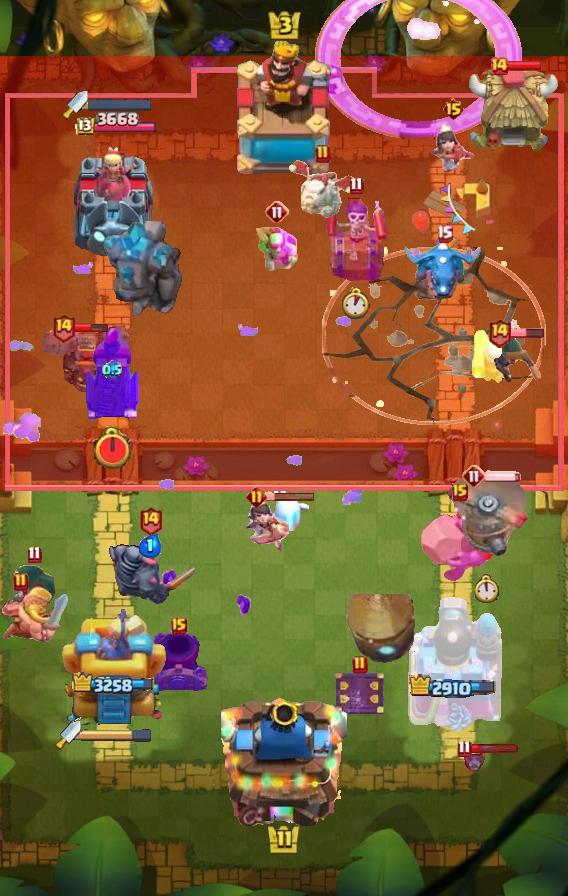archer-evolution: (35, 325, 129, 395)
archer-queen: (417, 500, 503, 584)
bar: (62, 601, 166, 731), (70, 142, 158, 256)
barbarian-barrel: (461, 745, 487, 773)
bat: (267, 491, 309, 531)
cannoneer-tower: (101, 221, 185, 319)
dark-prince: (440, 474, 534, 556)
electro-spirit: (139, 534, 162, 558), (102, 360, 122, 380)
elixir: (91, 426, 132, 470), (340, 288, 372, 321), (476, 574, 501, 602)
emote: (264, 490, 316, 501), (469, 742, 519, 753), (484, 470, 522, 482), (507, 60, 543, 72), (509, 327, 545, 339), (73, 322, 109, 333)
giant-snowball: (253, 224, 301, 274)
goblin-giant: (0, 586, 70, 644)
golemite: (105, 526, 195, 606)
graveyard: (405, 240, 483, 302)
guard: (322, 246, 546, 426)
ice-spirit-evolution-symbol: (82, 327, 142, 423), (333, 668, 387, 718)
king-tower: (221, 690, 347, 826), (228, 41, 340, 181)
king-tower-bar: (81, 728, 153, 742), (88, 99, 152, 111)
knight-evolution: (314, 0, 521, 140)
mini-pekka: (286, 157, 360, 221)
musketeer: (148, 627, 210, 695)
prince: (465, 65, 559, 155)
selected: (410, 674, 499, 701), (72, 112, 155, 138), (72, 672, 156, 697)
skeleton-dragon: (244, 497, 294, 553), (428, 123, 478, 175)
skeleton-king-bar: (325, 195, 387, 281)
tesla: (491, 330, 541, 386), (7, 565, 61, 607)
text: (51, 312, 76, 343), (488, 317, 513, 348), (138, 504, 163, 535), (265, 200, 289, 224), (462, 464, 486, 488), (443, 97, 466, 121), (245, 485, 266, 506), (489, 56, 509, 76), (435, 225, 453, 244), (315, 144, 331, 164), (13, 572, 29, 592), (352, 655, 368, 675), (452, 483, 468, 501), (171, 617, 187, 635), (349, 176, 364, 195), (456, 738, 471, 757), (27, 545, 41, 564)
tombstone: (470, 327, 512, 385)
tower-bar: (404, 593, 502, 731)
x-bow: (344, 594, 422, 672)
